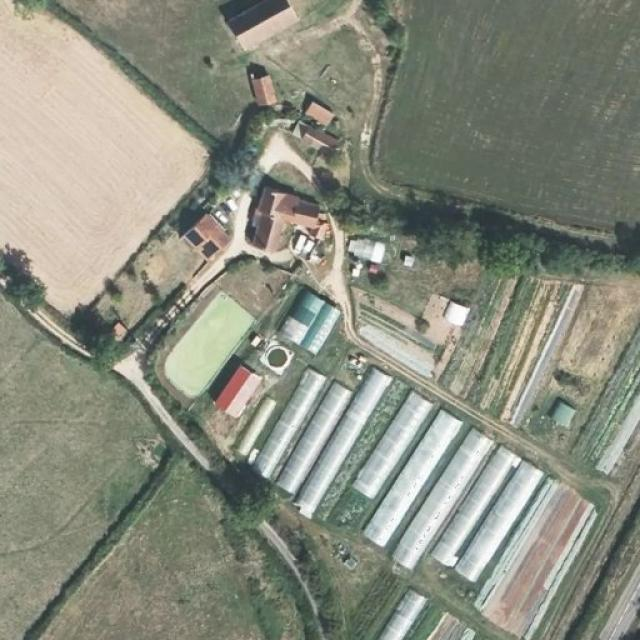ferme: (262, 283, 340, 371), (247, 182, 330, 262), (228, 0, 298, 46), (182, 208, 232, 254), (293, 95, 338, 131), (252, 75, 275, 102)
